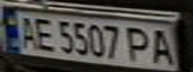0: (87, 21, 106, 59)
5: (54, 18, 75, 55), (69, 20, 90, 56)
7: (103, 22, 127, 60)
A: (145, 27, 178, 65), (15, 14, 39, 50)
E: (30, 15, 57, 52)
P: (124, 25, 154, 63)
